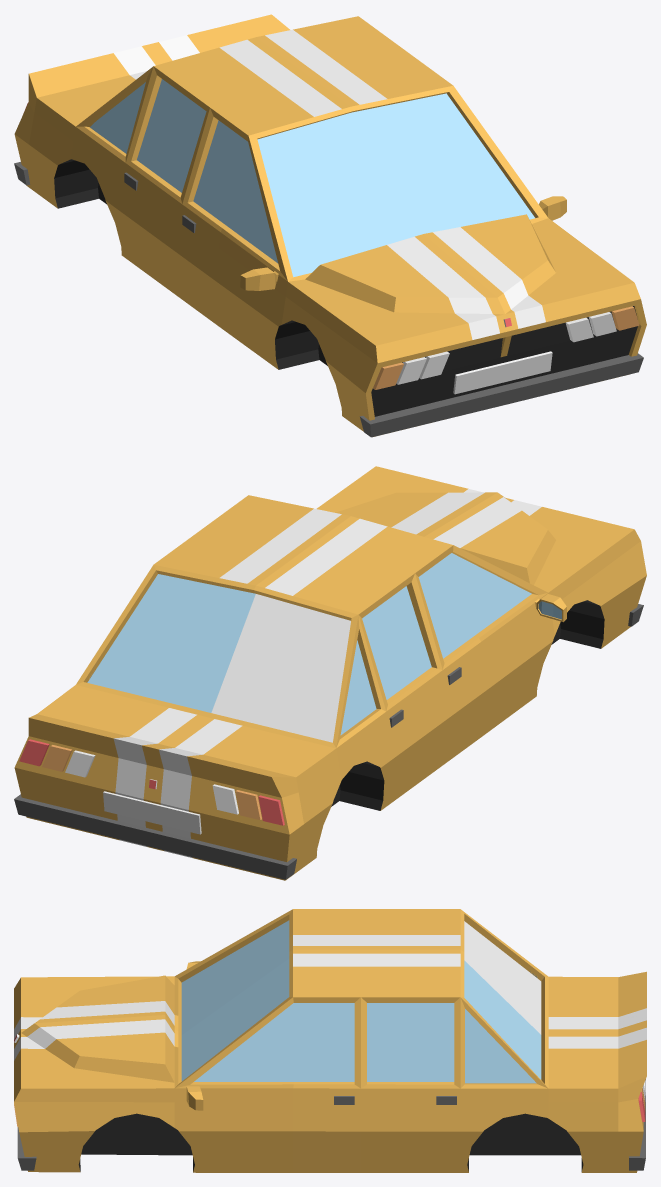
The model's file is car_chasis.glb.
The picture shows the model from 3 angles, top to bottom: view 1: azimuth 30°, elevation 25°; view 2: azimuth 150°, elevation 25°; view 3: azimuth 270°, elevation 25°; orthographic projection. The views are drawn at different scales.
Parts seen in each view (by area): view 1: camaro.001; view 2: camaro.001; view 3: camaro.001.
Part boxes in pixels (x1,y1,x2,y2): camaro.001: (14, 14, 646, 437); camaro.001: (14, 466, 646, 880); camaro.001: (14, 909, 646, 1172).
Size of the model in its own units: 10.96 by 6.17 by 21.1.
1 material, 1 textured.
